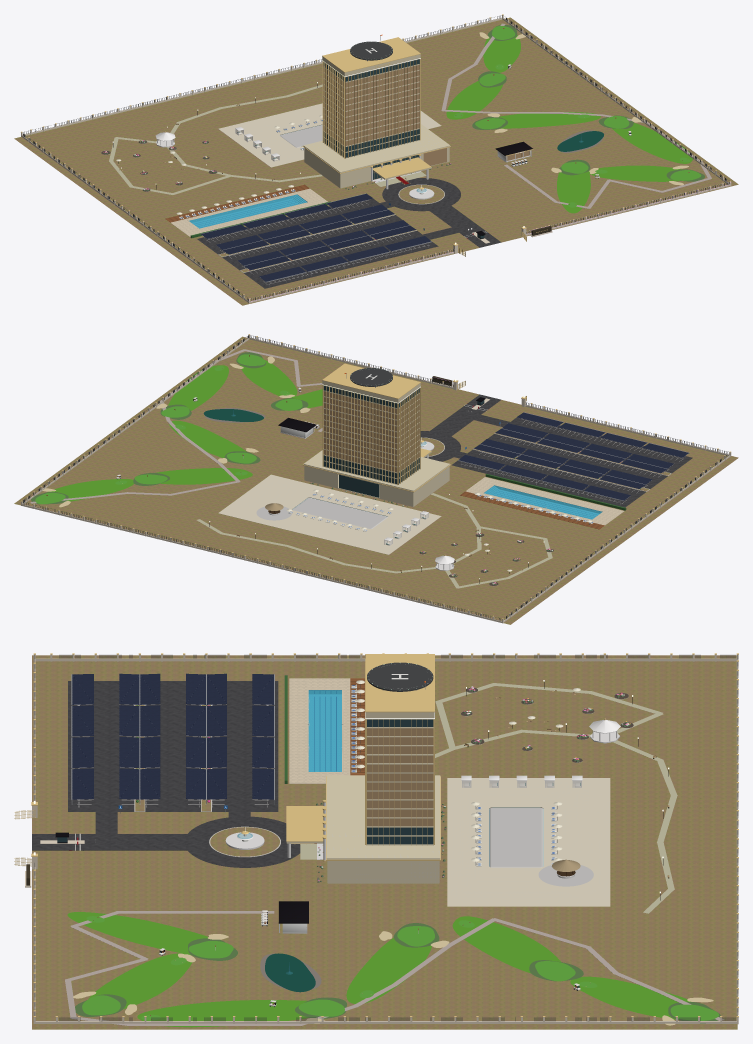
Rendered from set_gra_hotel.glb.
3 views of the same model, one above another, from view 1: azimuth 30°, elevation 25°; view 2: azimuth 150°, elevation 25°; view 3: azimuth 270°, elevation 25° (orthographic). The views are drawn at different scales.
Parts seen in each view (by area): view 1: GR_set_gra_hotel, GD_set_gra_hotel; view 2: GR_set_gra_hotel, GD_set_gra_hotel; view 3: GR_set_gra_hotel, GD_set_gra_hotel.
Boxes of the visible parts, x1,y1,x2,y2 form: GR_set_gra_hotel: (14,15,738,305); GD_set_gra_hotel: (21,14,730,300); GR_set_gra_hotel: (14,335,738,624); GD_set_gra_hotel: (21,334,730,618); GR_set_gra_hotel: (14,654,738,1029); GD_set_gra_hotel: (29,653,738,1019).
Size of the model in its own units: 320 by 79.66 by 262.
30 materials, 9 textured.
